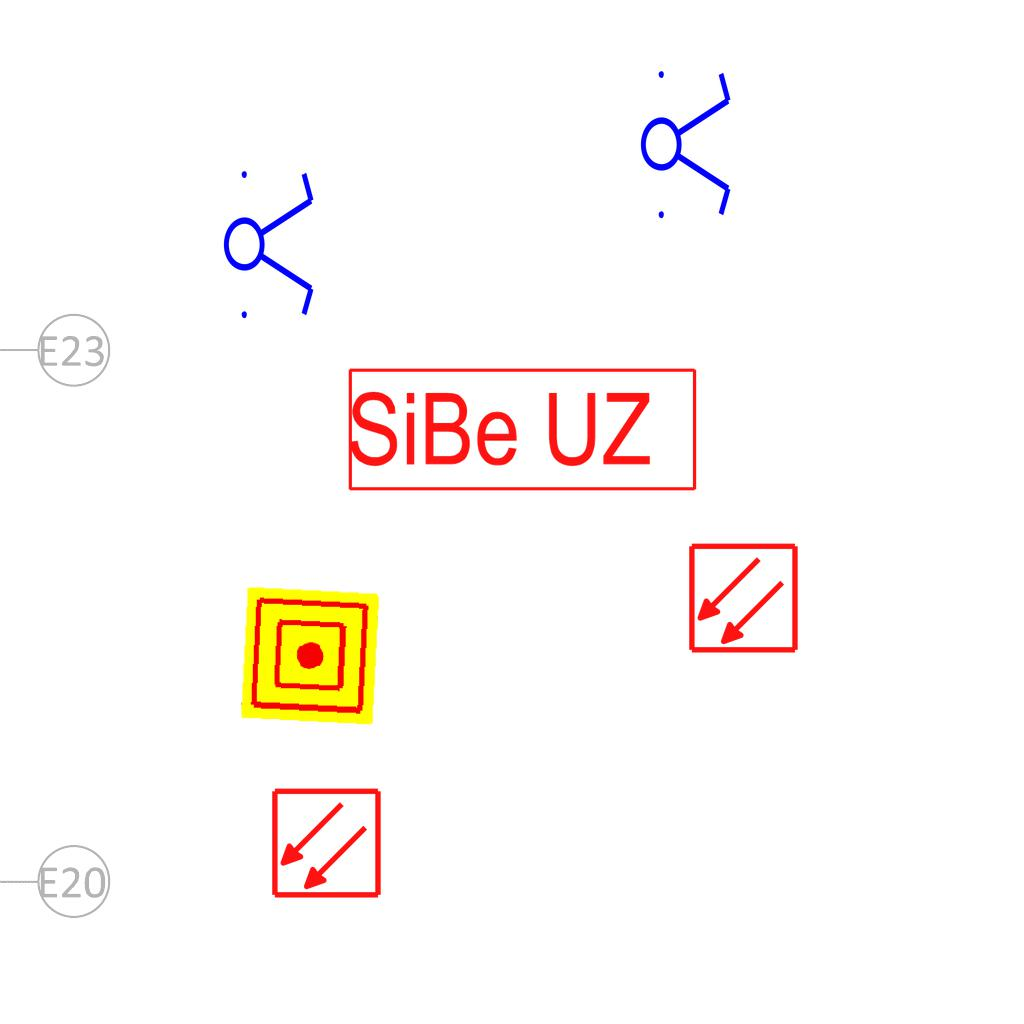NAM-Nichtautomatischer_Melder: (240, 586, 380, 726)
RMO_Rauchmelder_optischer: (270, 787, 383, 900), (687, 542, 800, 655)
Serienschalter: (222, 159, 318, 327), (639, 59, 735, 227)
Zentrale_Sicherheitsbeleuchtung: (345, 365, 702, 495)
